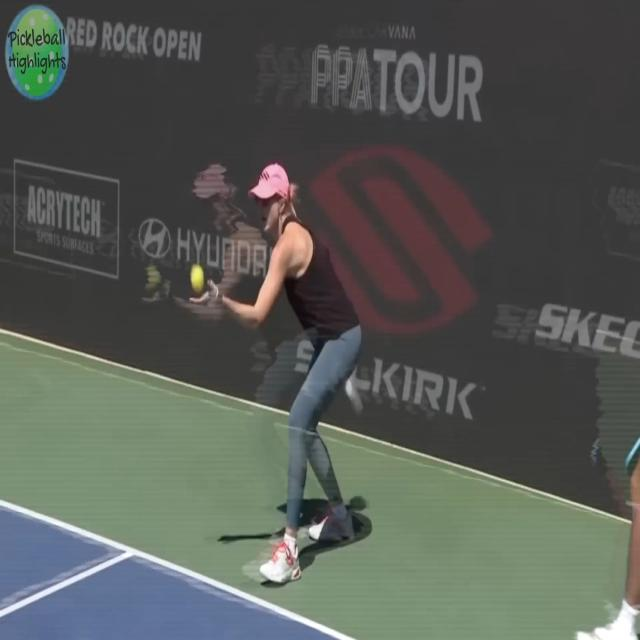ball: (185, 256, 209, 294)
